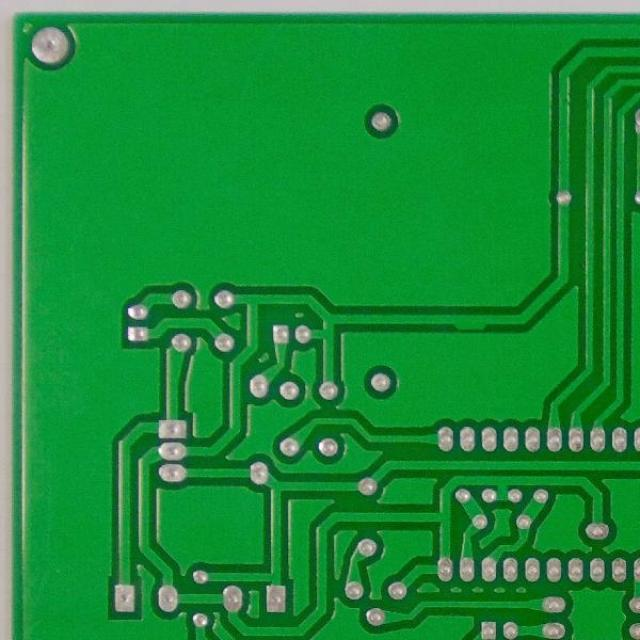spur: (446, 310, 491, 334)
